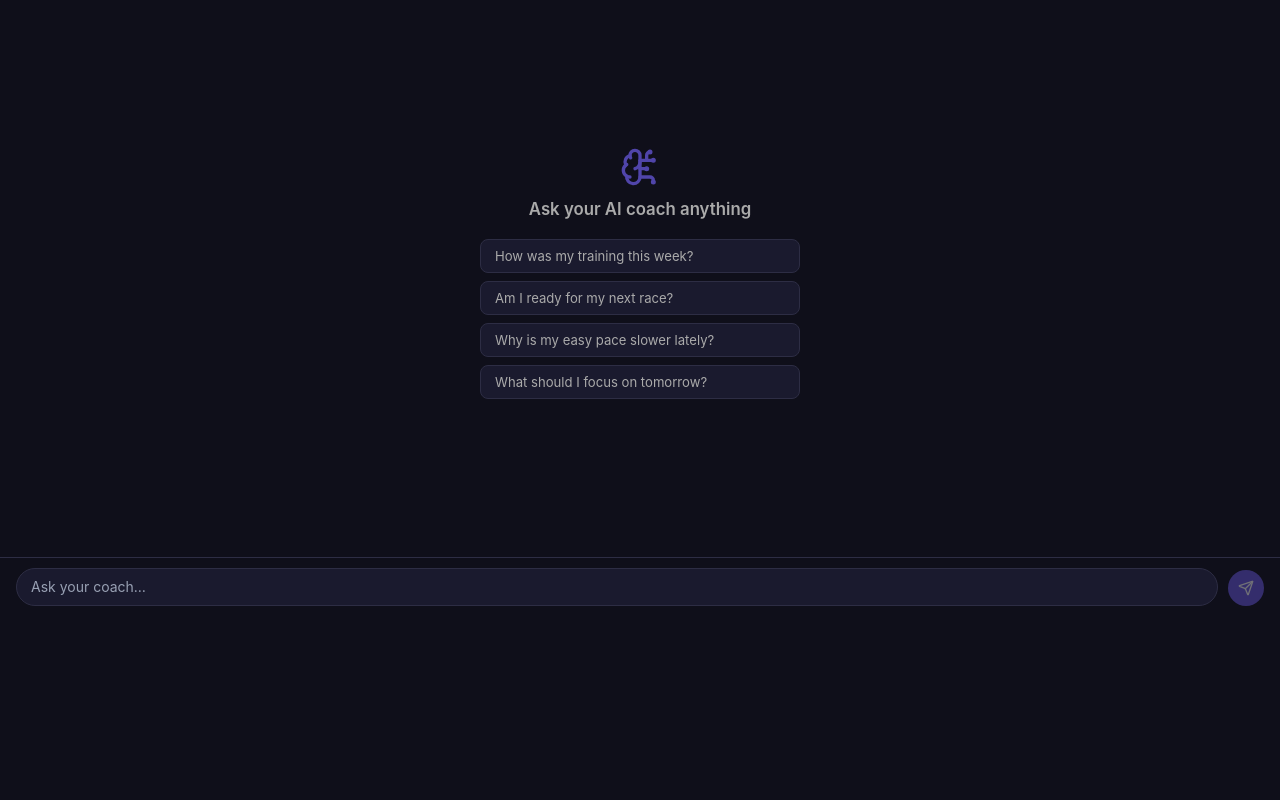
Test: ChatView › reappears hint chips near the composer once the input is empty again, while history is still short
This screenshot has width=1280, height=800.
Click the button "How was my training this week?" at (640, 256), box [480,238,800,272]
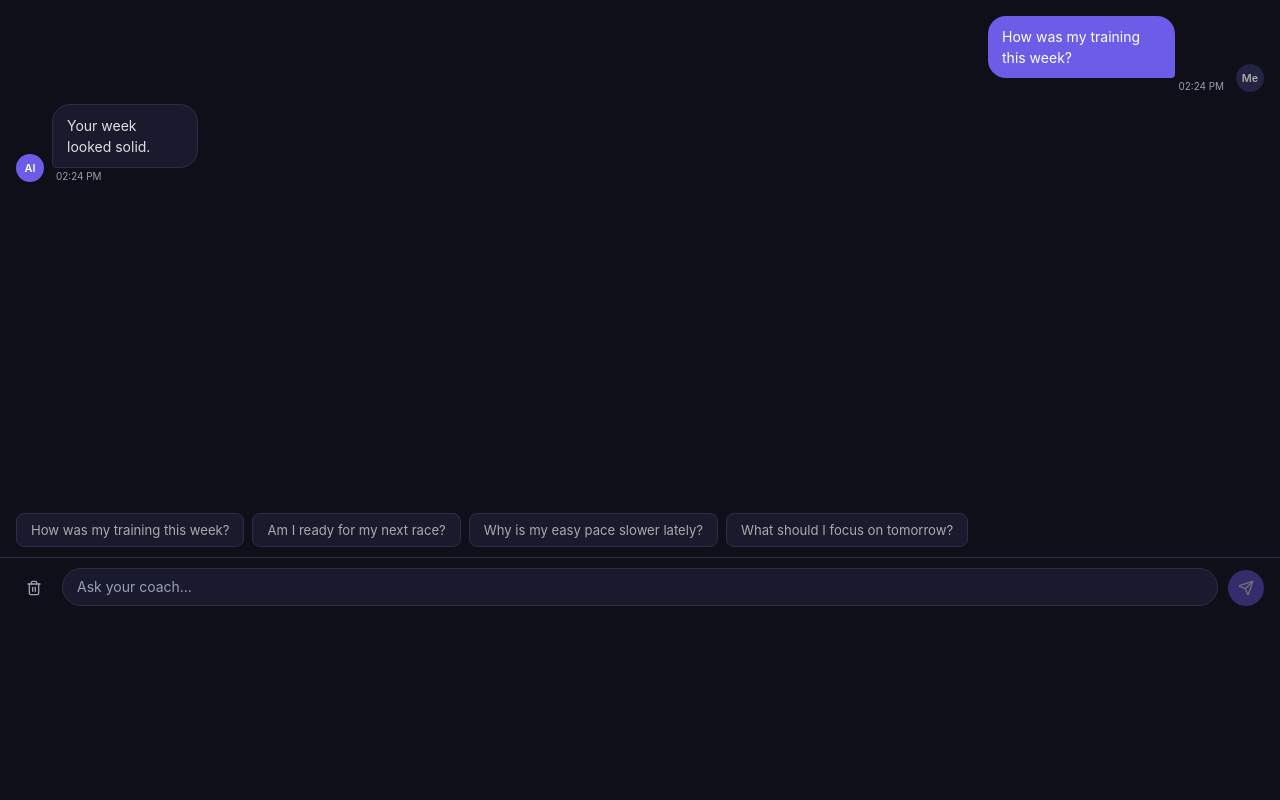
Expected: the button "Am I ready for my next race?" is shown, [252,513,461,547]
Expected: the text "Your week looked solid." is shown, [67,117,150,155]
